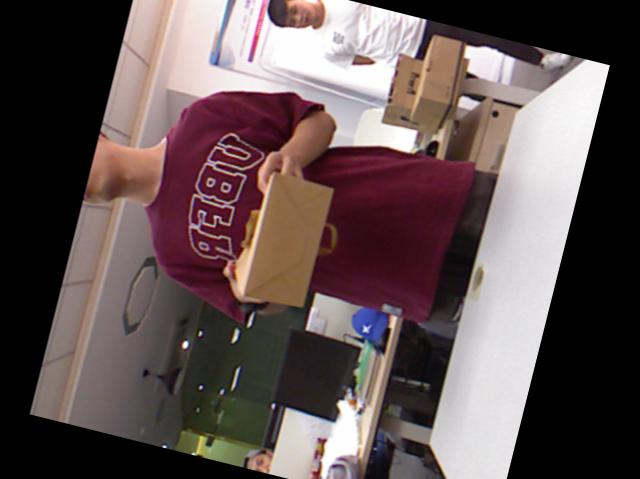cardboard paper: (235, 169, 333, 304), (447, 96, 519, 171), (411, 34, 465, 132), (383, 53, 423, 127)
